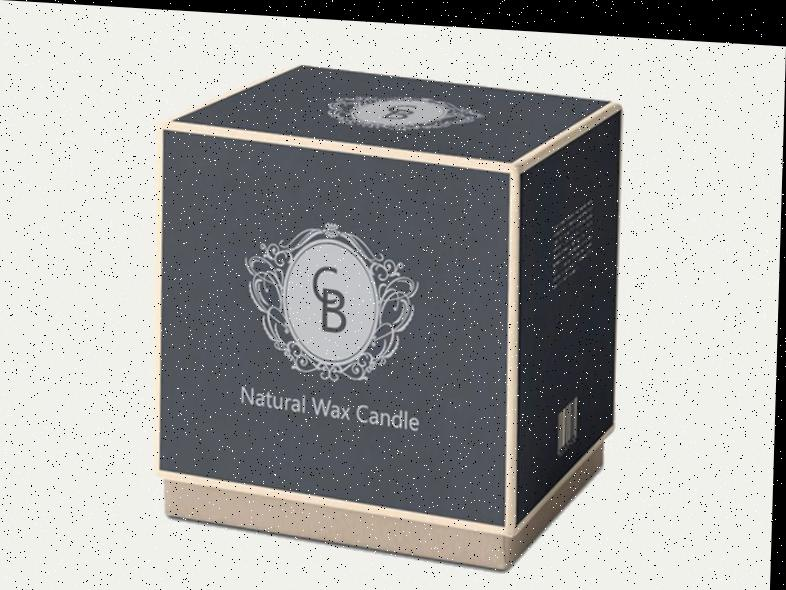cube: (149, 51, 624, 570)
